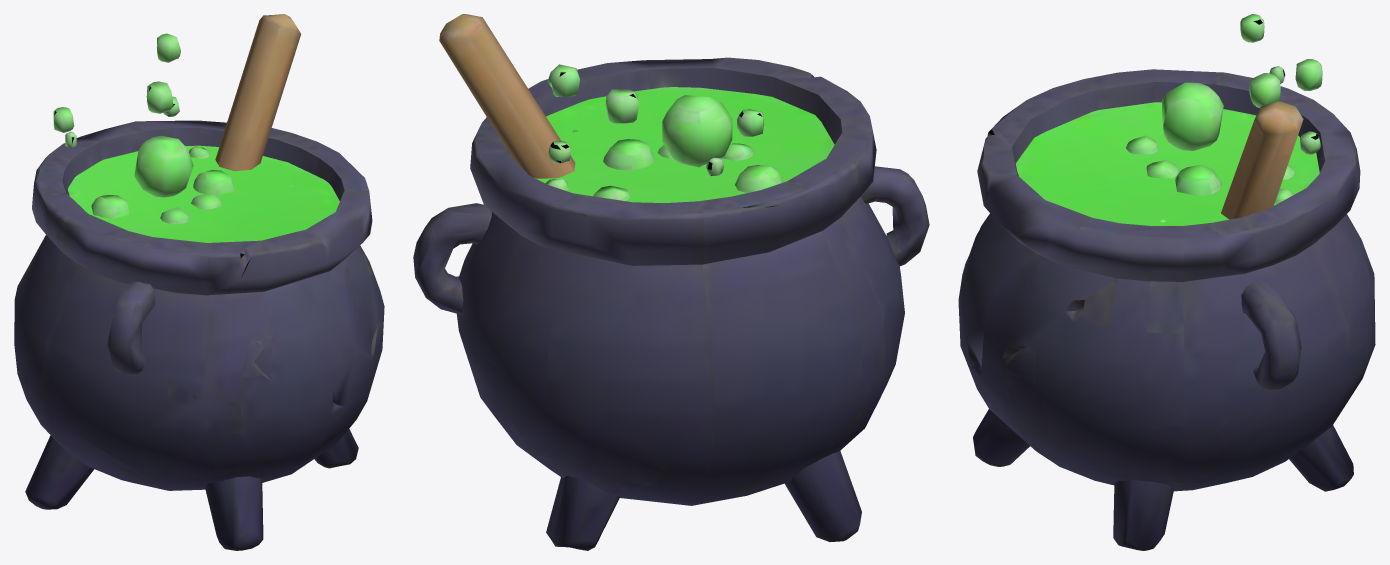
The model's file is kit-cauldron.lod.glb.
The picture shows the model from 3 angles, left to right: view 1: azimuth 30°, elevation 25°; view 2: azimuth 150°, elevation 25°; view 3: azimuth 270°, elevation 25°; orthographic projection. The views are drawn at different scales.
Visible parts, largest first — view 1: WBA_Witch_Cauldron_Large_01_WBA_MAT_Halloween_Atlas_0.001; view 2: WBA_Witch_Cauldron_Large_01_WBA_MAT_Halloween_Atlas_0.001; view 3: WBA_Witch_Cauldron_Large_01_WBA_MAT_Halloween_Atlas_0.001.
Part boxes in pixels (left/top/right/bottom): WBA_Witch_Cauldron_Large_01_WBA_MAT_Halloween_Atlas_0.001: left=14, top=14, right=384, bottom=550; WBA_Witch_Cauldron_Large_01_WBA_MAT_Halloween_Atlas_0.001: left=413, top=14, right=929, bottom=550; WBA_Witch_Cauldron_Large_01_WBA_MAT_Halloween_Atlas_0.001: left=958, top=14, right=1375, bottom=550.
Bounding box in the file's own units: 0.464 × 0.5374 × 0.4544.
Materials: 1 (1 with a texture image).
